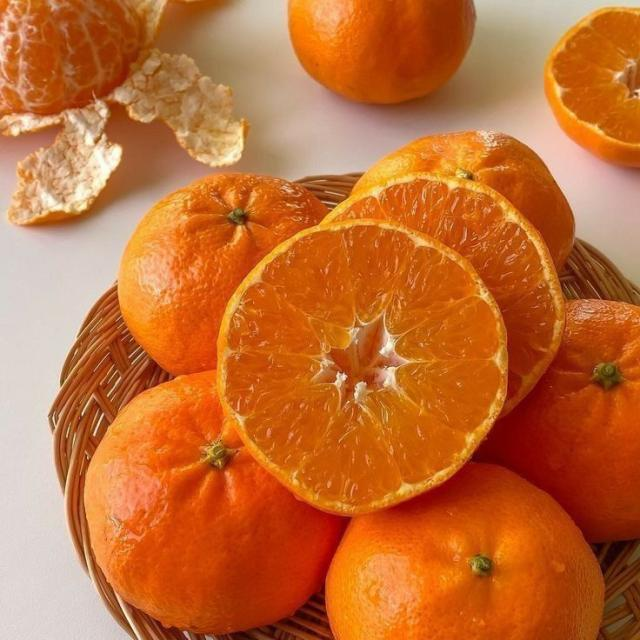orange: (219, 220, 506, 513), (85, 373, 345, 635), (327, 174, 564, 413), (327, 463, 604, 639), (119, 174, 326, 374), (479, 300, 639, 541), (354, 131, 574, 271), (289, 0, 475, 103), (0, 0, 142, 115), (545, 7, 639, 166)
